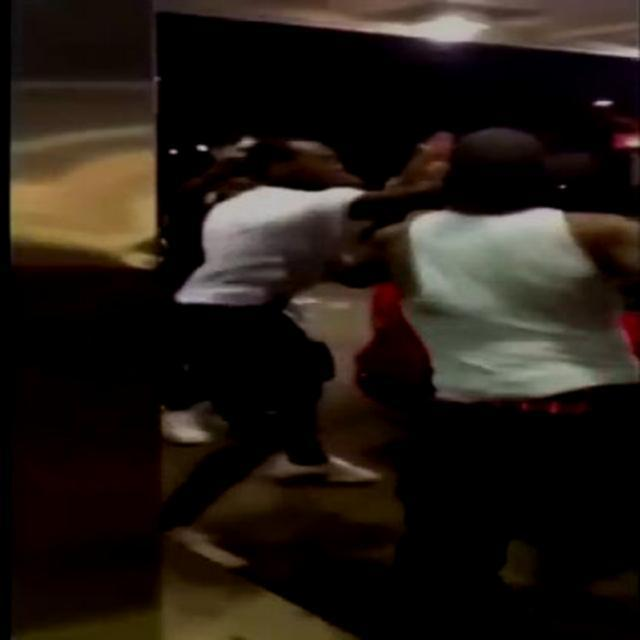fight: (188, 130, 640, 581)
